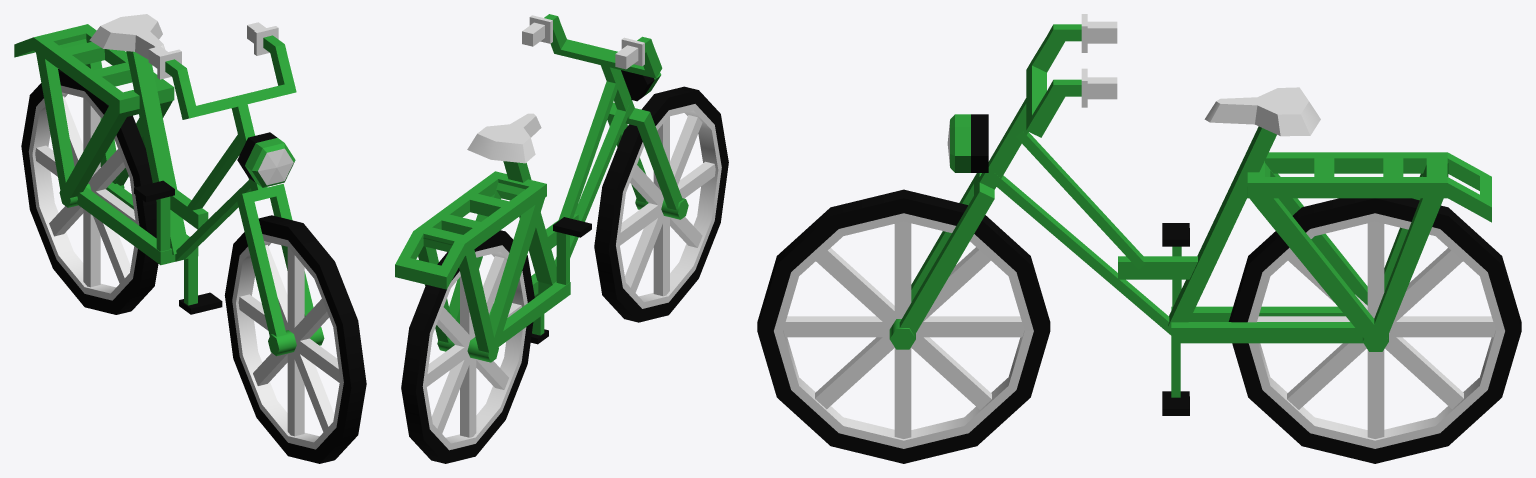
File: Cycle_2.FBX
The picture shows the model from 3 angles, left to right: view 1: azimuth 30°, elevation 25°; view 2: azimuth 150°, elevation 25°; view 3: azimuth 270°, elevation 25°; orthographic projection. The views are drawn at different scales.
Visible parts, largest first — view 1: Cycle_2; view 2: Cycle_2; view 3: Cycle_2.
Part boxes in pixels (x1,y1,x2,y2): Cycle_2: (14,14,366,463); Cycle_2: (395,14,728,463); Cycle_2: (757,14,1521,463).
Size of the model in its own units: 0.4772 by 1.37 by 2.3.
1 material, 1 textured.
